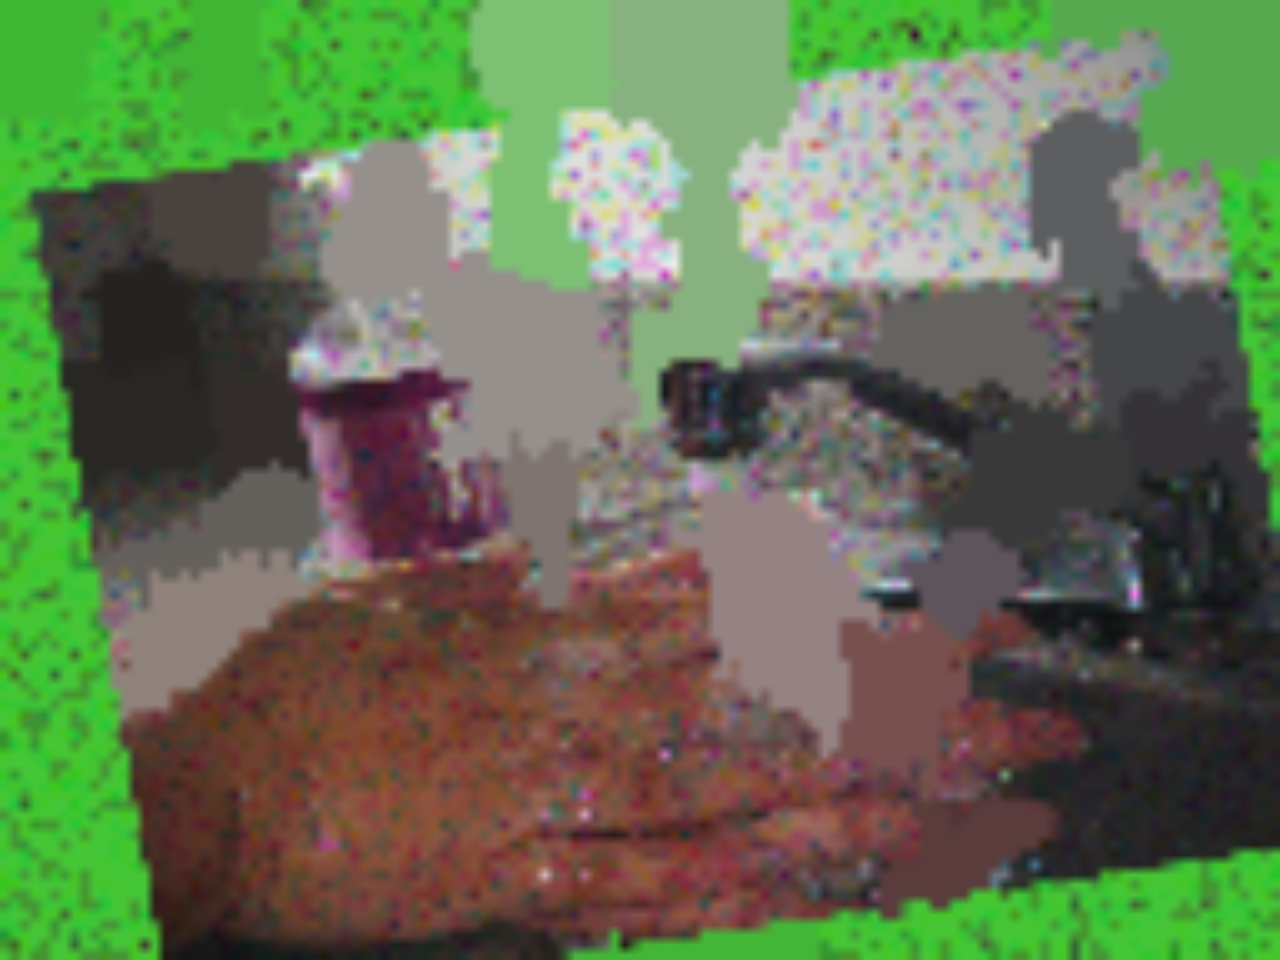washing hand: (200, 266, 1163, 959)
